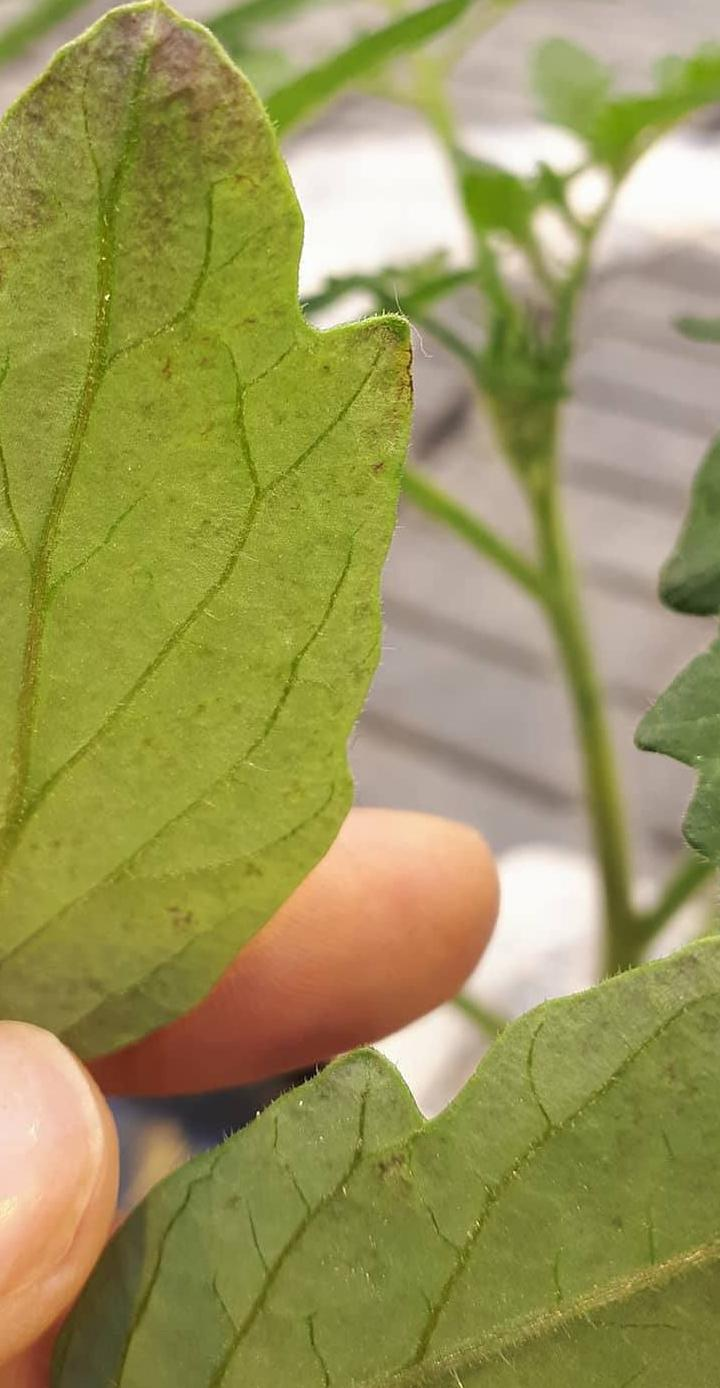Tomato mold leaf: (0, 0, 446, 1151)
